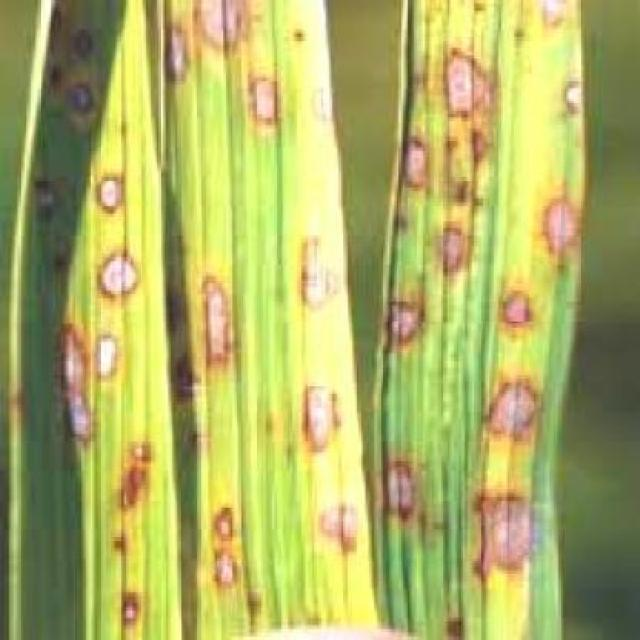Bacterial_Leaf_Blight: (51, 318, 128, 425), (473, 461, 544, 577), (299, 219, 364, 316), (486, 346, 549, 439), (302, 376, 367, 450), (443, 37, 502, 112), (244, 614, 425, 638), (200, 490, 242, 592), (199, 261, 238, 368), (87, 242, 158, 298), (382, 445, 431, 521), (389, 298, 448, 360), (497, 276, 546, 344), (191, 0, 254, 52), (314, 482, 363, 547), (539, 179, 581, 253), (89, 168, 142, 225), (65, 73, 109, 141), (29, 165, 77, 223), (116, 442, 156, 510), (46, 225, 89, 288), (160, 22, 198, 80), (65, 17, 107, 68), (244, 74, 282, 129), (308, 66, 344, 122), (436, 228, 472, 282), (465, 123, 501, 174), (403, 142, 432, 200), (117, 572, 146, 628), (560, 70, 585, 124), (44, 0, 76, 37), (535, 0, 571, 28), (305, 0, 338, 22)
Leaf_Blast: (447, 172, 491, 226), (107, 516, 139, 569), (242, 578, 266, 638), (438, 606, 480, 640), (286, 18, 320, 59), (42, 56, 70, 101), (442, 130, 469, 172), (508, 20, 537, 58), (109, 114, 138, 149), (460, 0, 494, 29), (264, 404, 287, 444), (427, 0, 461, 25), (279, 438, 298, 477)
